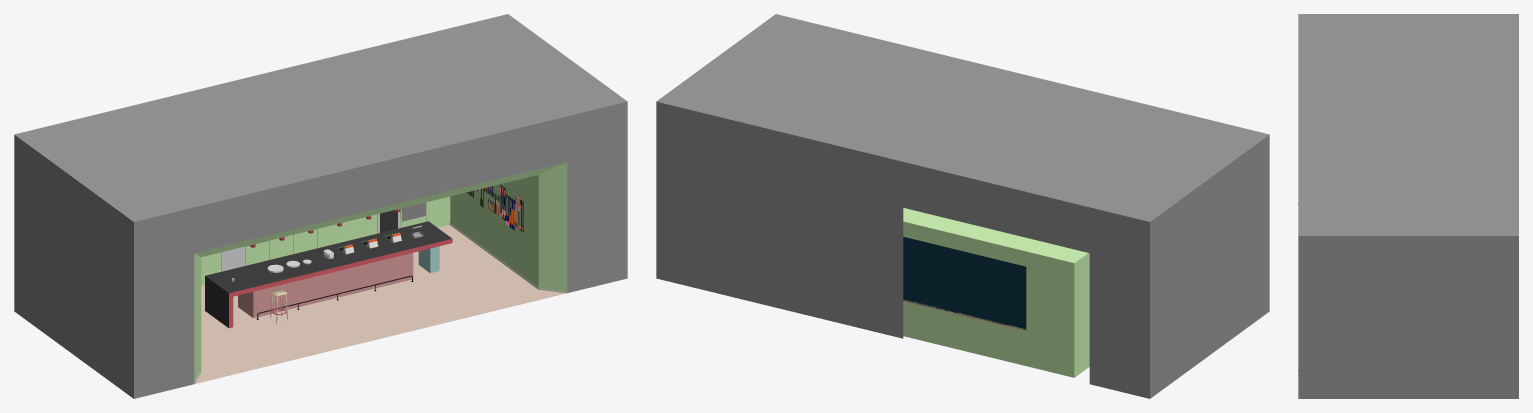
The model's file is ul-kitchen21.gltf.
3 views of the same model, side by side, from view 1: azimuth 30°, elevation 25°; view 2: azimuth 150°, elevation 25°; view 3: azimuth 270°, elevation 25° (orthographic). The views are drawn at different scales.
Parts seen in each view (by area): view 1: concreteWalls, floor, mainGreenWall, mainTableTopPlane, mainTableBase, closetDoors, mainTableSidePannels, mainTableSidePlane; view 2: concreteWalls, mainGreenWall, MainNishBackWall; view 3: concreteWalls.
Boxes of the visible parts, left/top/right/bottom form: concreteWalls: left=14, top=14, right=627, bottom=398; floor: left=195, top=225, right=565, bottom=383; mainGreenWall: left=194, top=162, right=567, bottom=381; mainTableTopPlane: left=205, top=221, right=451, bottom=292; mainTableBase: left=238, top=253, right=413, bottom=318; closetDoors: left=201, top=196, right=450, bottom=281; mainTableSidePannels: left=229, top=239, right=452, bottom=328; mainTableSidePlane: left=205, top=276, right=228, bottom=327; concreteWalls: left=656, top=14, right=1269, bottom=398; mainGreenWall: left=903, top=208, right=1089, bottom=377; MainNishBackWall: left=903, top=237, right=1026, bottom=329; concreteWalls: left=1298, top=14, right=1518, bottom=398.
Size of the model in its own units: 208 by 71.34 by 87.55.
